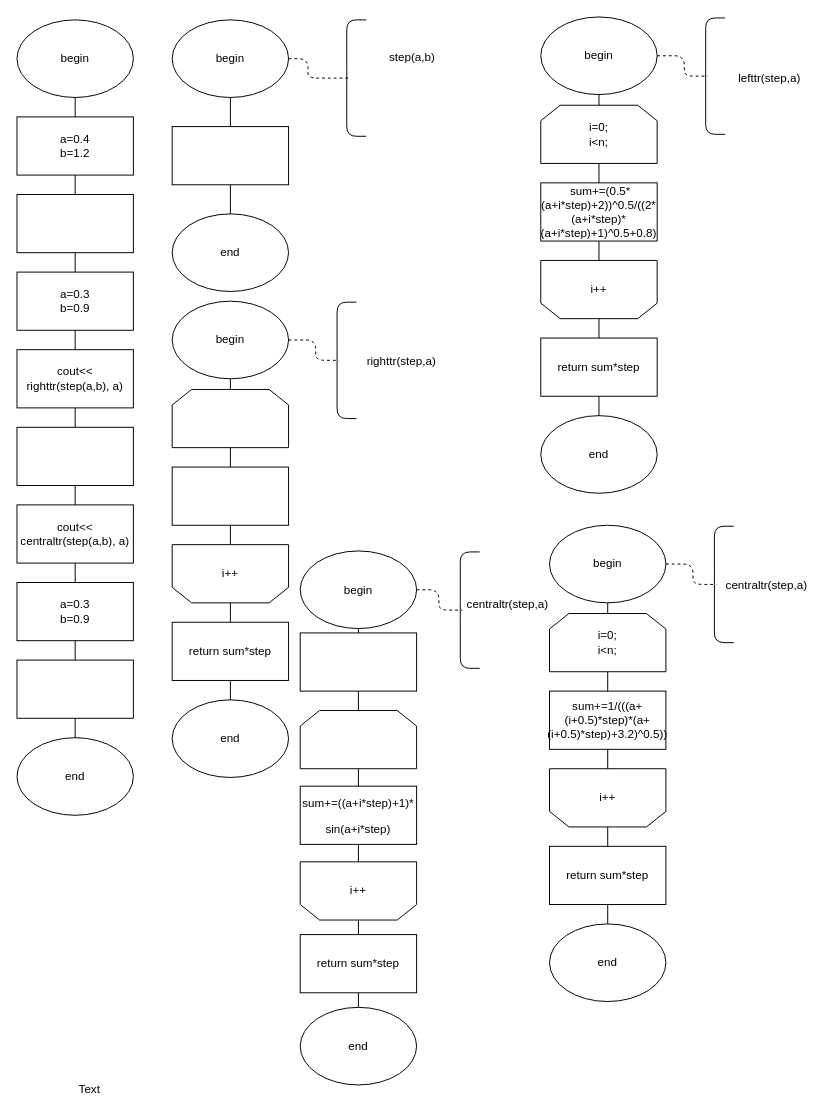
This 838x1116 diagram has some shape labels left out. Here are the shapes that lost their labels. From the top down, the centre of each, then its label:
the point at 230,155: return (b-a)/h
the point at 74,223: cout<< lefttr(step(a,b), a)
the point at 230,418: i=1; i<=n;
the point at 74,455: a=1.2 b=2.7
the point at 230,495: sum+=(cos( 0.8 *(a+i*step)+ 1.2 ))/ ( 1.5 +sin((a+i*step)*(a+i*step)+ 0.6 ))
the point at 358,661: sum= ((a+ 1 )*sin(a)+(a+ 1 +step*n)* sin(a+step*n))/ 2
the point at 74,688: cout<< trapezium(step(a,b), a)
the point at 358,739: i=1; i<n;
